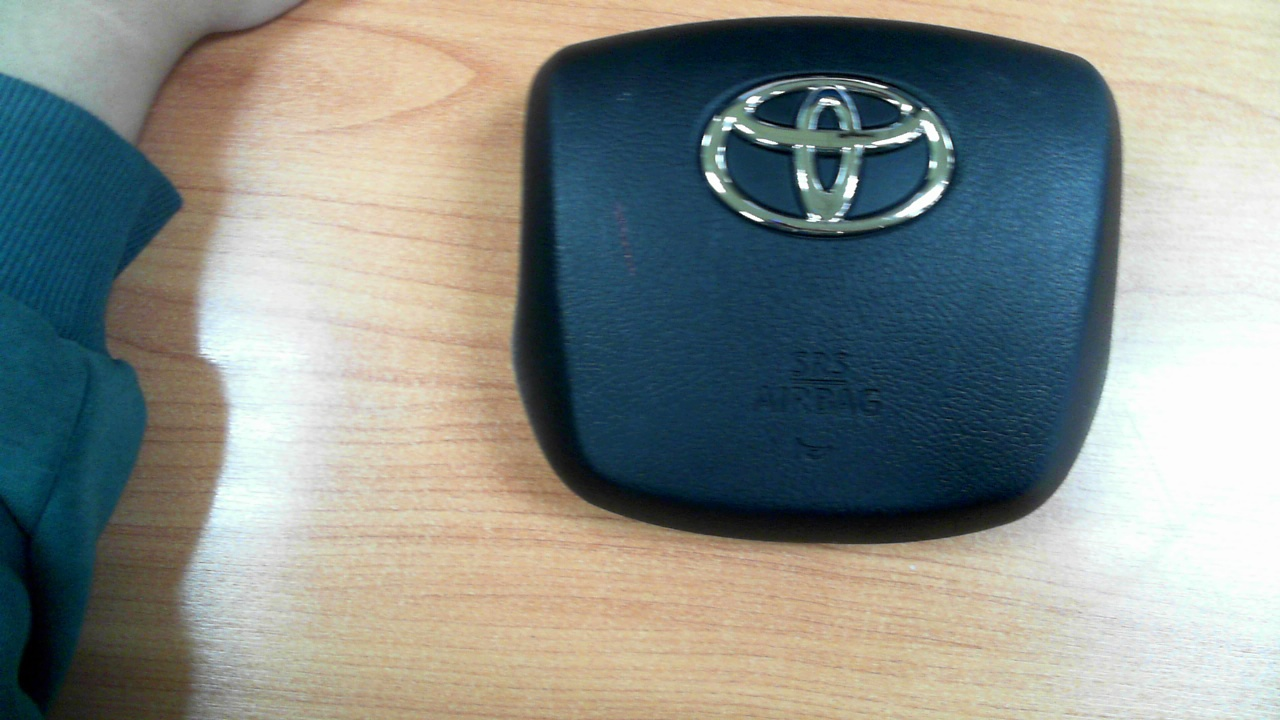Airbag: (512, 15, 1125, 547)
Toyota: (700, 75, 955, 235)
